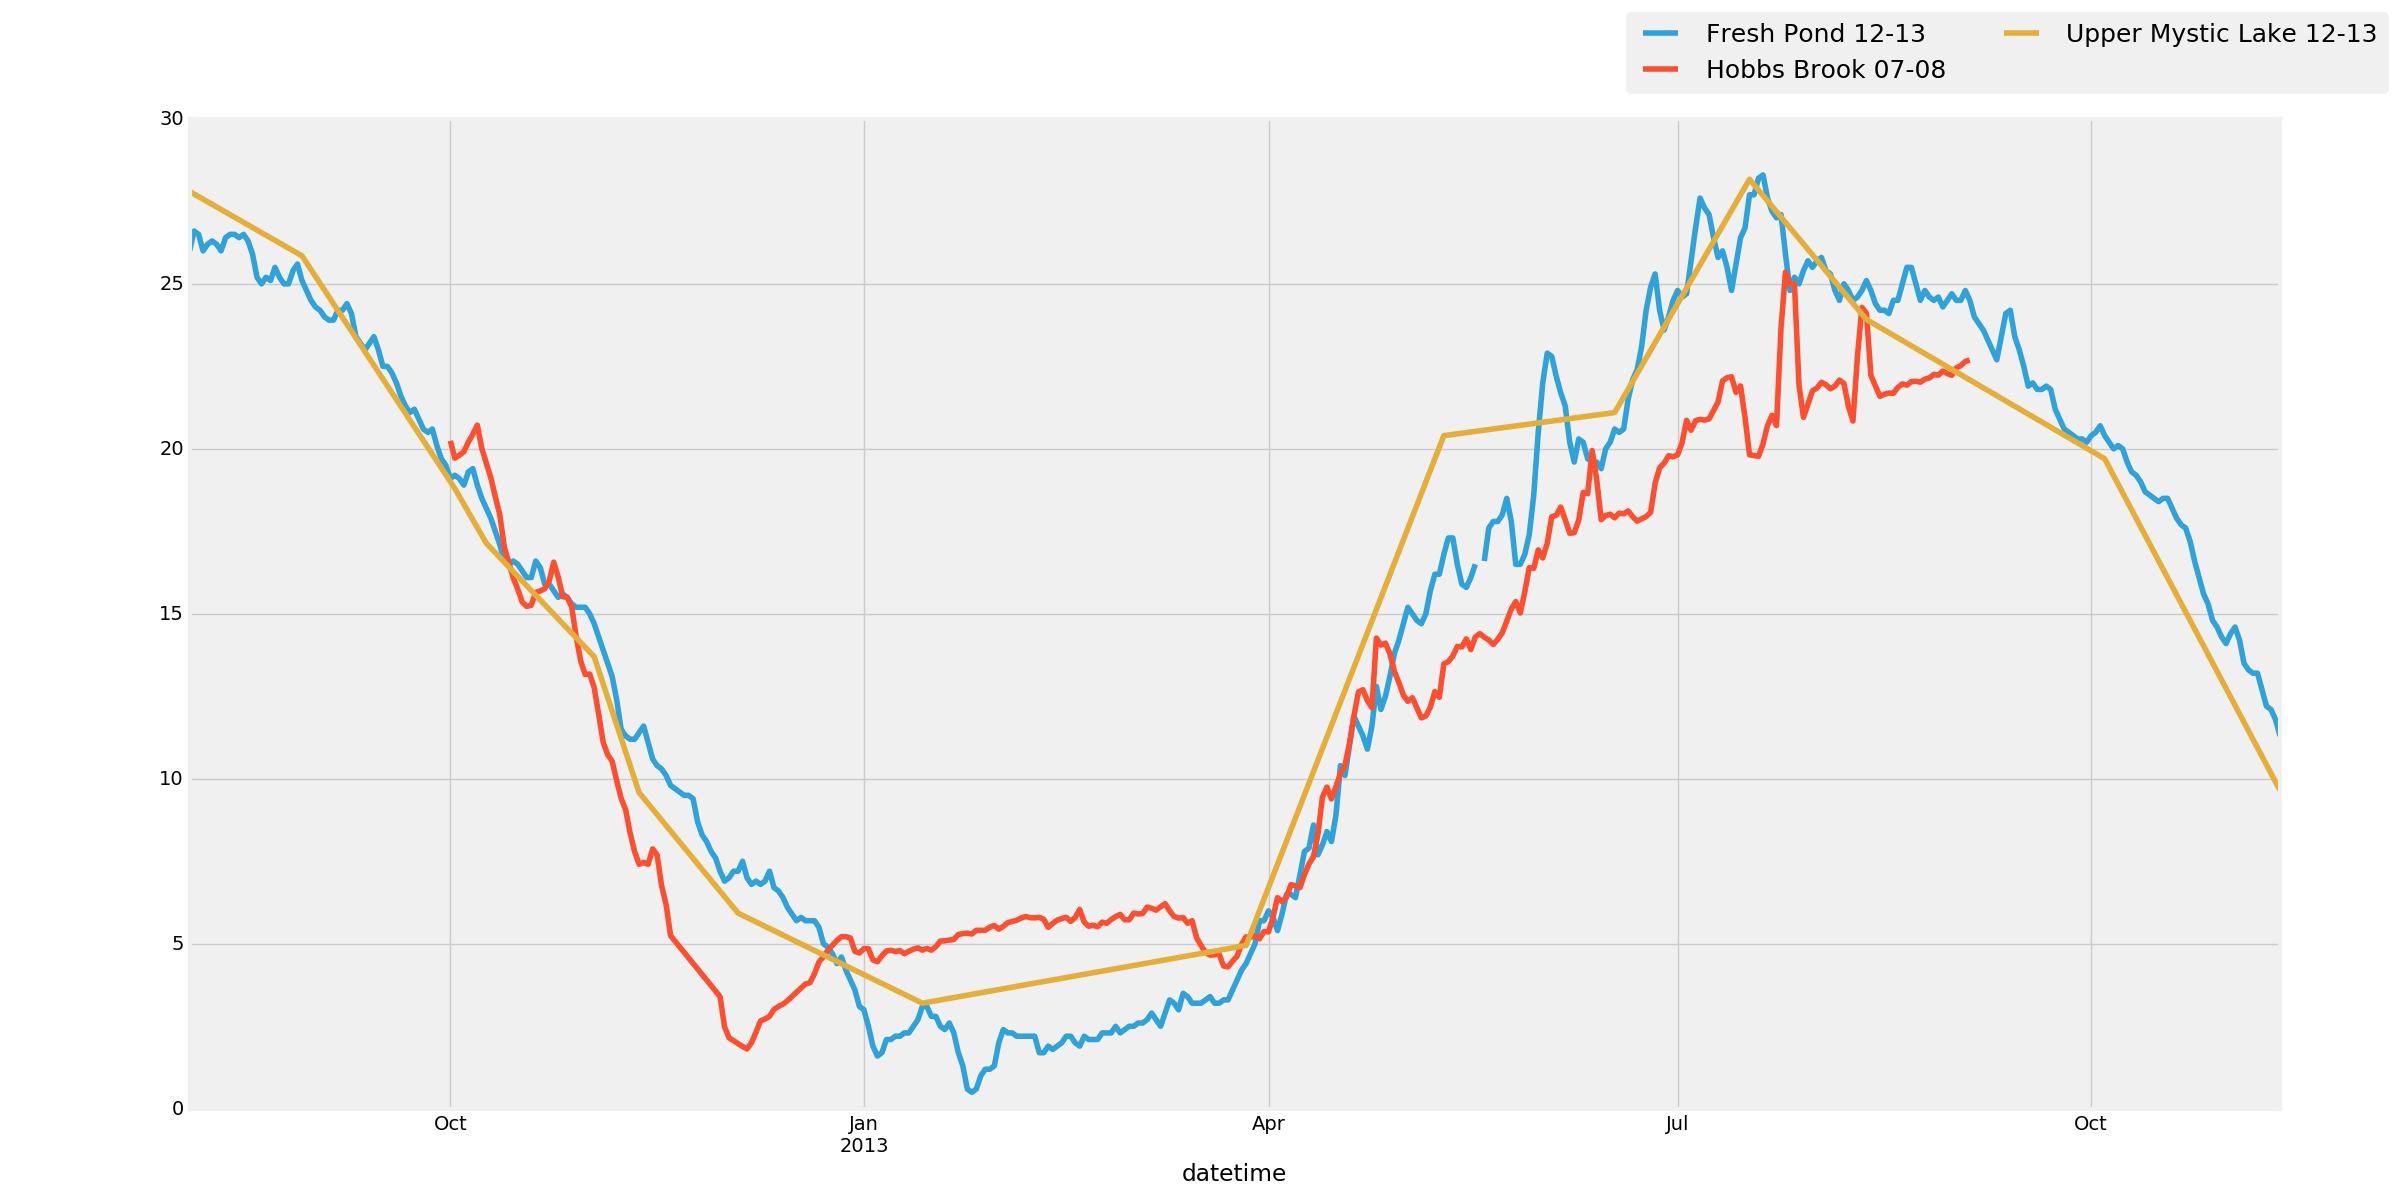

The page's visual inventory and layout, read from the dashboard file:
{"tool":"tableau","page":{"name":"2013 Lines","canvas":[650,600],"ordinal":1},"visuals":[{"type":"worksheet","title":"2013 LinesRaw","mark":"Automatic","rows":["ResultValue"],"cols":["Datetime"],"box":[0,0,490,600]},{"type":"filter","title":"2013 LinesRaw","param":"[msaccess.41562.933590833331].[none:CharacteristicName:nk]","box":[490,0,160,53]},{"type":"text","box":[490,53,160,36]},{"type":"legend","title":"2013 LinesRaw","param":"[msaccess.41562.933590833331].[none:Calculation_4831016214107055:nk]","box":[490,89,160,308]}]}

Visuals, with their boxes on the page's 650x600 design canvas (x1, y1, x2, y2). These are canvas units, not pixel positions in the 2400x1191 screenshot, which may show the page scaled, cropped or inside an application window:
"2013 LinesRaw" worksheet: x1=0 y1=0 x2=490 y2=600
"2013 LinesRaw" filter: x1=490 y1=0 x2=650 y2=53
text: x1=490 y1=53 x2=650 y2=89
"2013 LinesRaw" legend: x1=490 y1=89 x2=650 y2=397
